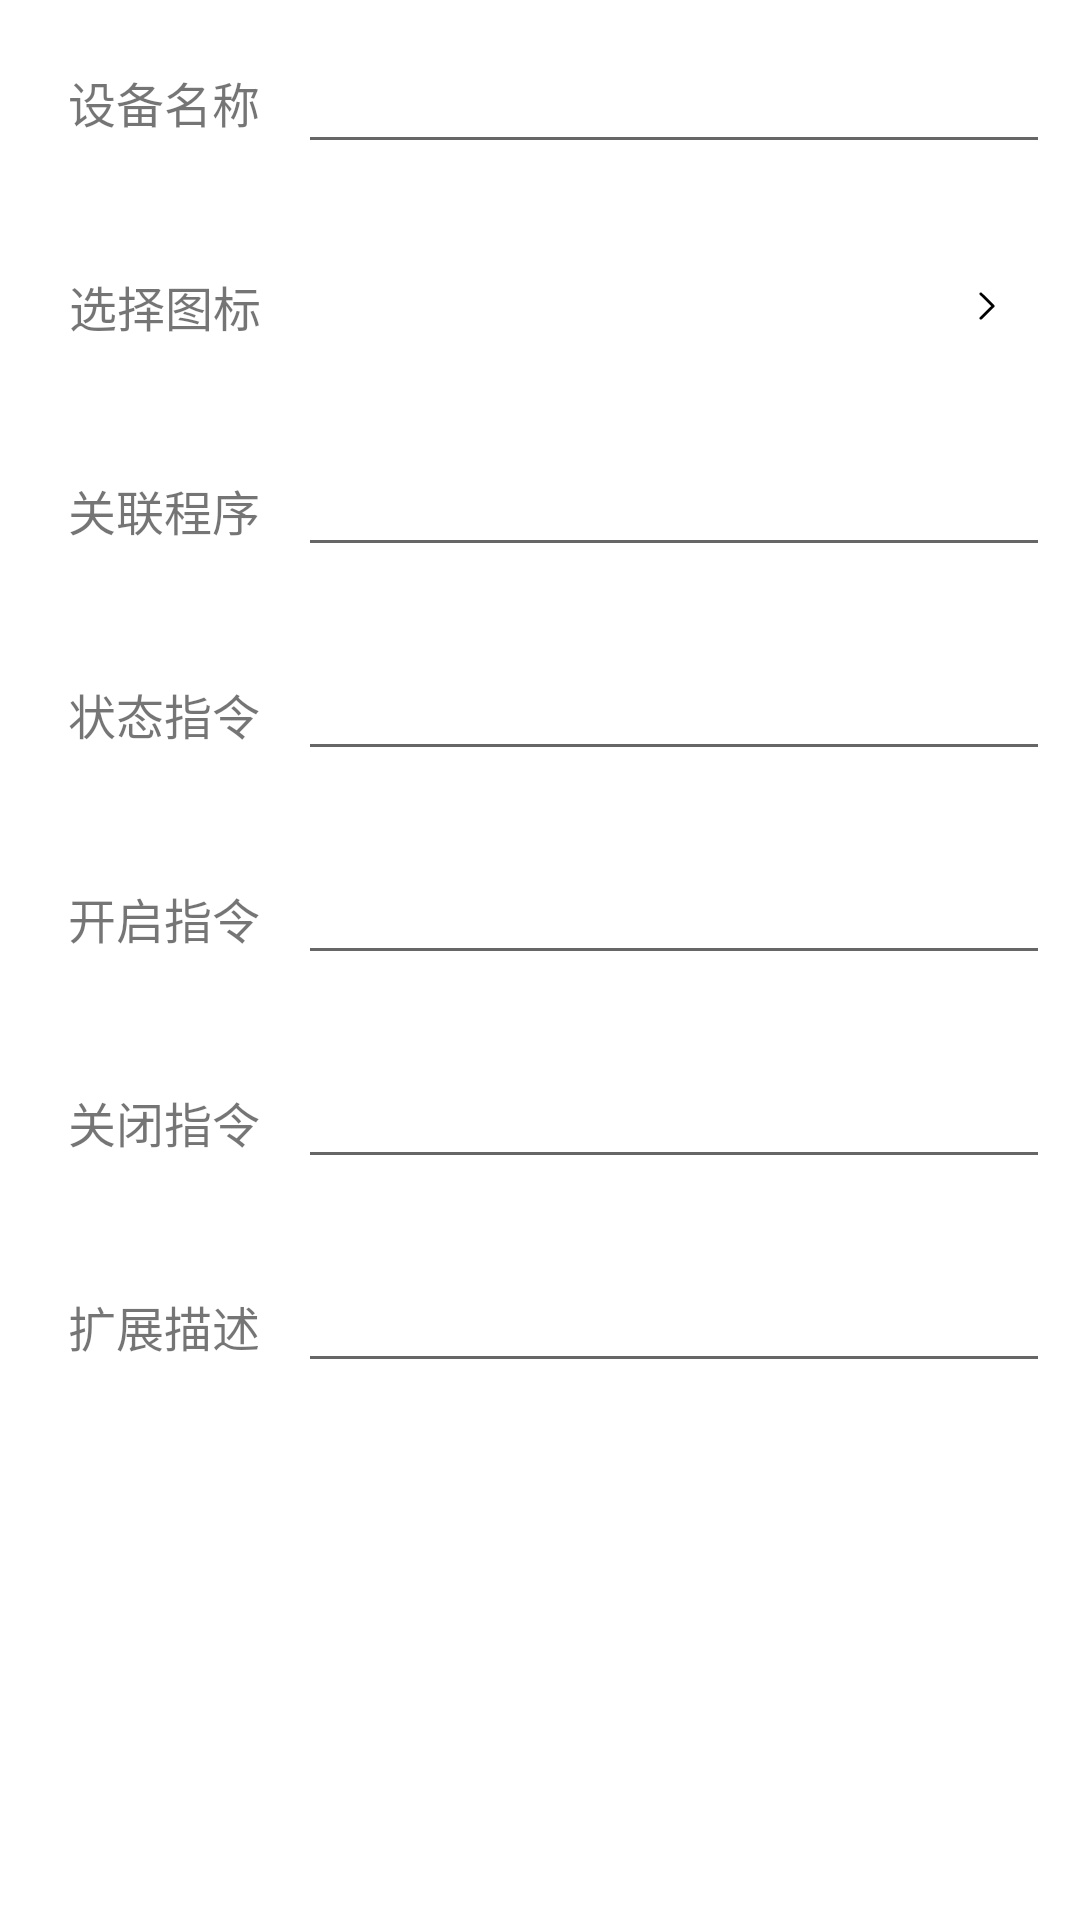

Icons on this 1080 x 1920 Android screen, each with the point to tap as (x=x, y=y):
next: (x=987, y=306)
